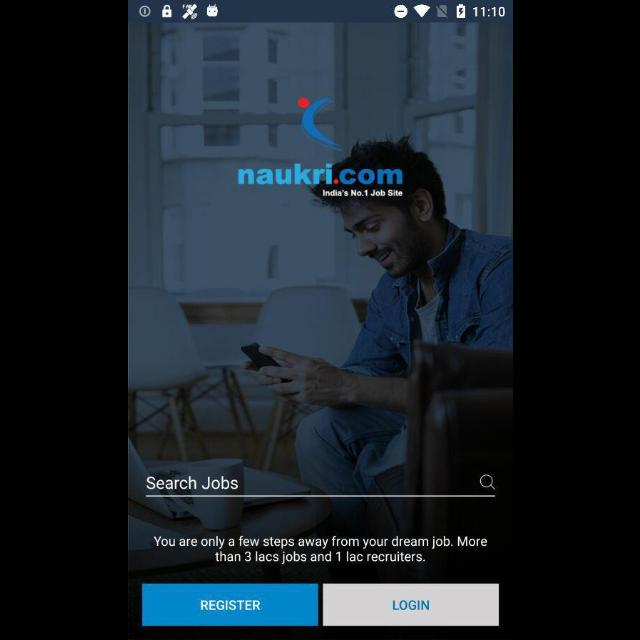backgroundimage: (128, 24, 512, 640)
icon: (479, 474, 495, 490)
image: (238, 96, 402, 198)
input: (145, 474, 495, 498)
text: (154, 536, 486, 564), (146, 476, 238, 490)
textbutton: (142, 584, 318, 626), (322, 584, 498, 626)
uppertaskbar: (128, 1, 512, 23)
